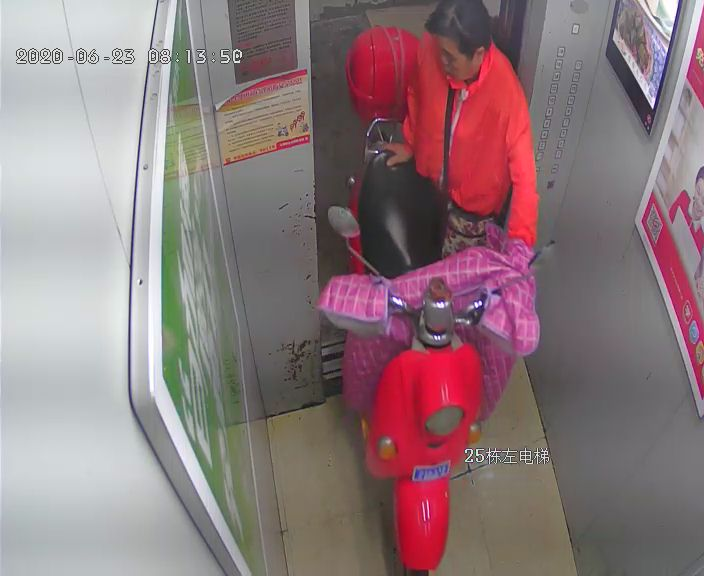Electric-bicycle: (330, 27, 553, 560)
